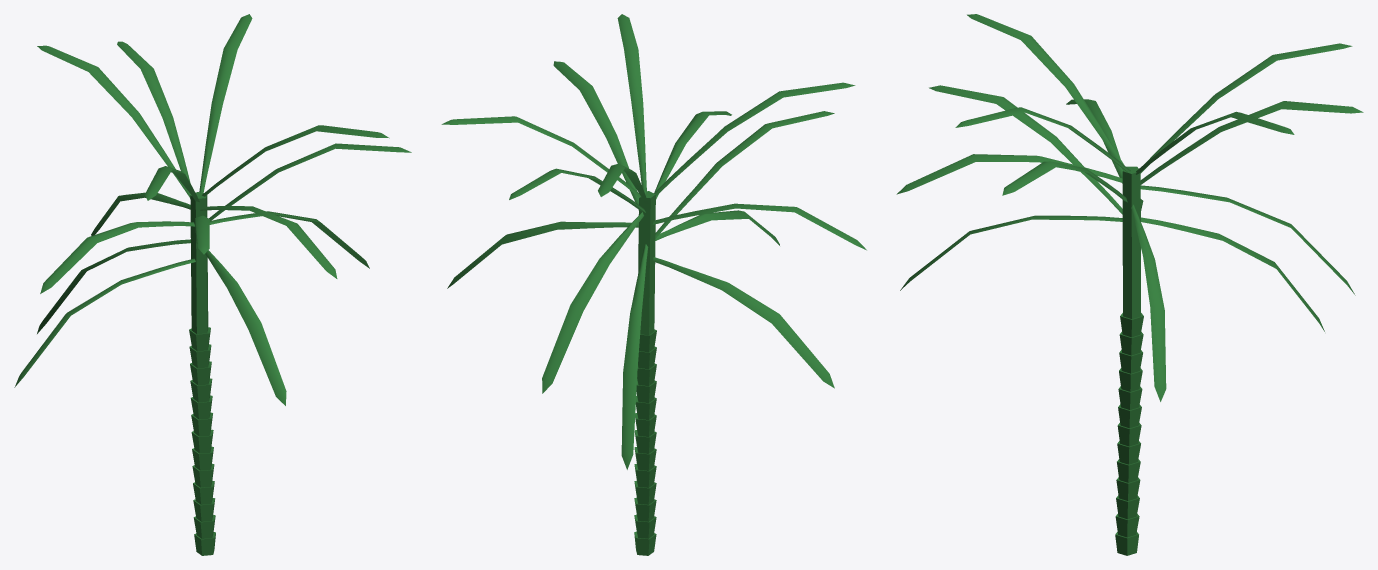
File: PlantD.fbx
3 views of the same model, side by side, from view 1: azimuth 30°, elevation 25°; view 2: azimuth 150°, elevation 25°; view 3: azimuth 270°, elevation 25° (orthographic). The views are drawn at different scales.
Visible parts, largest first — view 1: PlantD; view 2: PlantD; view 3: PlantD.
Part boxes in pixels (bbox=[...]): PlantD: bbox=[14, 14, 411, 555]; PlantD: bbox=[441, 14, 866, 555]; PlantD: bbox=[896, 14, 1363, 555].
Size of the model in its own units: 44.79 by 52.13 by 45.65.
